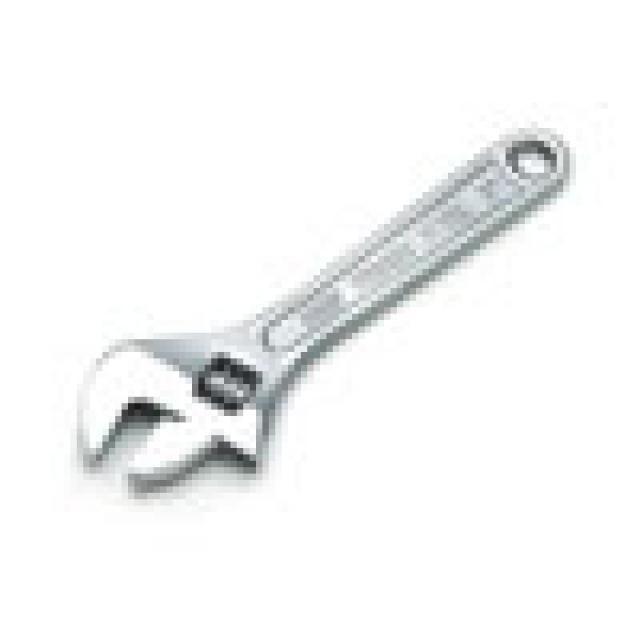wrench: (61, 109, 580, 508)
